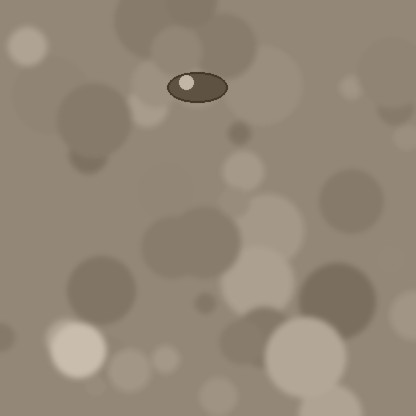gota: (167, 73, 227, 105)
